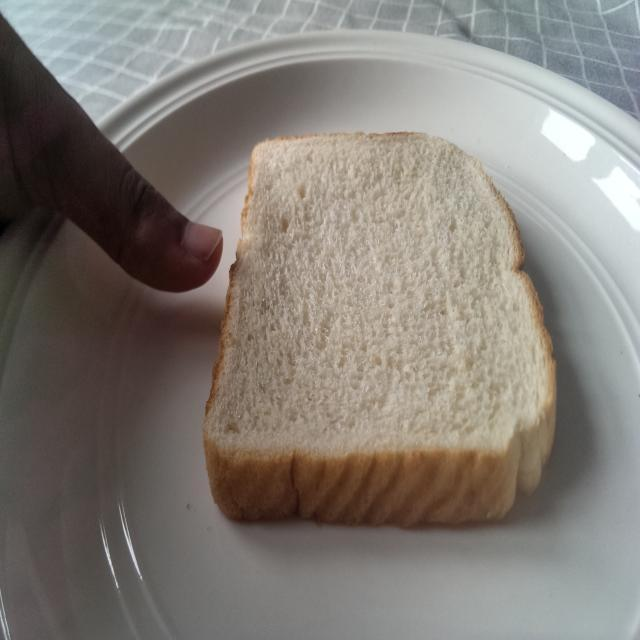Bread: (204, 123, 564, 536)
Finger: (122, 146, 227, 304)
